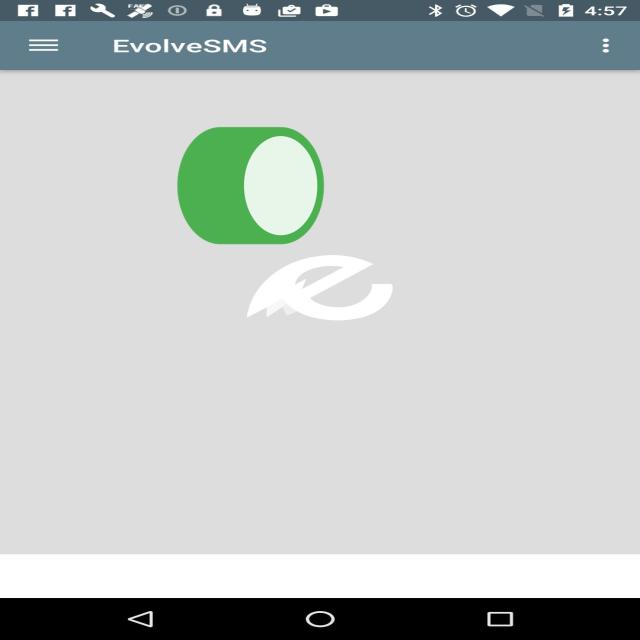social proof: (170, 82, 330, 298)
